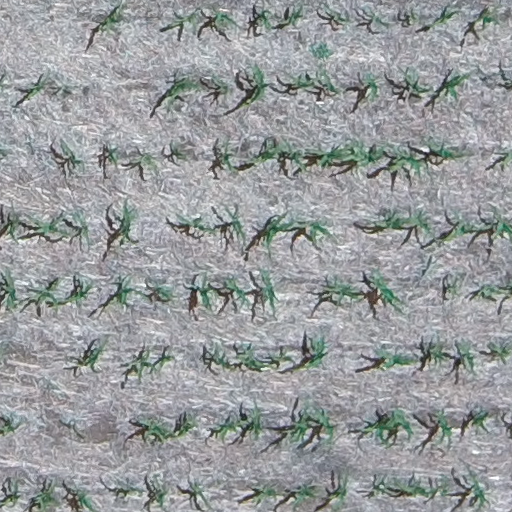planta: (375, 144, 431, 179), (247, 139, 308, 170), (100, 276, 149, 313), (250, 214, 300, 250), (339, 139, 387, 175), (369, 268, 404, 313), (363, 348, 419, 375), (291, 335, 329, 374), (438, 218, 494, 244), (290, 68, 341, 96), (237, 64, 268, 110), (235, 342, 281, 373), (282, 403, 316, 444), (304, 143, 353, 170), (364, 211, 416, 236), (361, 415, 398, 450), (324, 277, 367, 307), (162, 76, 202, 105), (29, 278, 62, 313), (433, 73, 471, 103), (190, 280, 225, 312), (383, 407, 416, 439), (311, 407, 338, 446), (139, 417, 176, 445), (211, 415, 249, 442), (28, 217, 71, 240), (294, 219, 332, 245), (114, 205, 137, 247), (96, 3, 126, 35), (75, 340, 107, 370), (56, 281, 94, 306), (433, 409, 459, 445), (425, 140, 467, 162), (1, 271, 23, 313), (126, 348, 154, 379), (179, 216, 221, 236), (259, 268, 279, 310), (210, 348, 241, 374), (224, 277, 250, 306), (172, 415, 199, 442), (423, 342, 451, 368), (462, 409, 492, 433), (243, 406, 264, 440), (404, 72, 431, 98), (407, 209, 433, 236), (472, 6, 500, 31), (60, 137, 83, 166), (428, 8, 458, 30), (456, 342, 478, 370), (279, 6, 304, 30), (219, 143, 237, 174), (227, 211, 246, 239), (23, 79, 47, 101), (210, 9, 236, 29), (71, 211, 90, 238), (363, 72, 380, 102), (150, 353, 175, 373), (308, 41, 333, 60), (154, 283, 177, 303), (270, 348, 293, 368), (170, 12, 197, 29), (133, 153, 158, 171), (255, 8, 274, 31), (212, 75, 231, 96), (107, 147, 120, 166), (332, 12, 350, 25), (445, 282, 459, 296), (407, 11, 420, 25), (173, 148, 187, 161), (370, 12, 383, 24), (393, 428, 396, 431)
